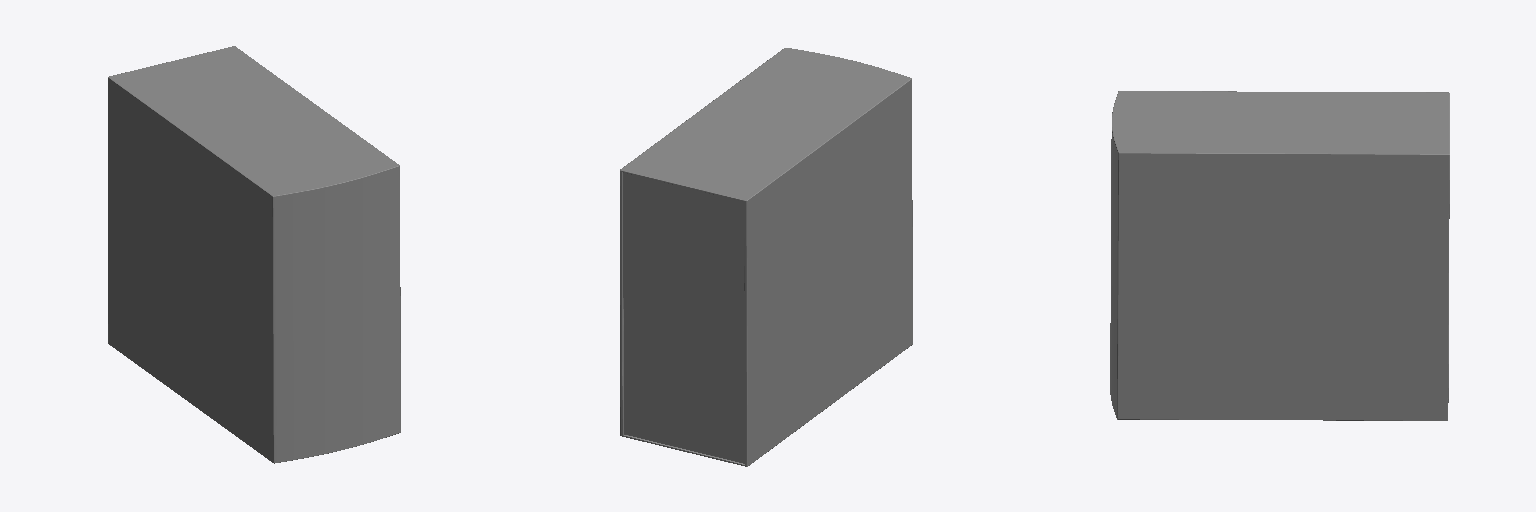
File: CPU2.obj
The picture shows the model from 3 angles: view 1: azimuth 30°, elevation 25°; view 2: azimuth 150°, elevation 25°; view 3: azimuth 270°, elevation 25°; orthographic projection.
Visible parts, largest first — view 1: 10104_Computer_CPU_Case; view 2: 10104_Computer_CPU_Case; view 3: 10104_Computer_CPU_Case.
Boxes of the visible parts, x1=… form: 10104_Computer_CPU_Case: x1=108, y1=46, x2=400, y2=463; 10104_Computer_CPU_Case: x1=620, y1=48, x2=912, y2=466; 10104_Computer_CPU_Case: x1=1110, y1=91, x2=1449, y2=420.
Size of the model in its own units: 20 by 40.22 by 46.14.